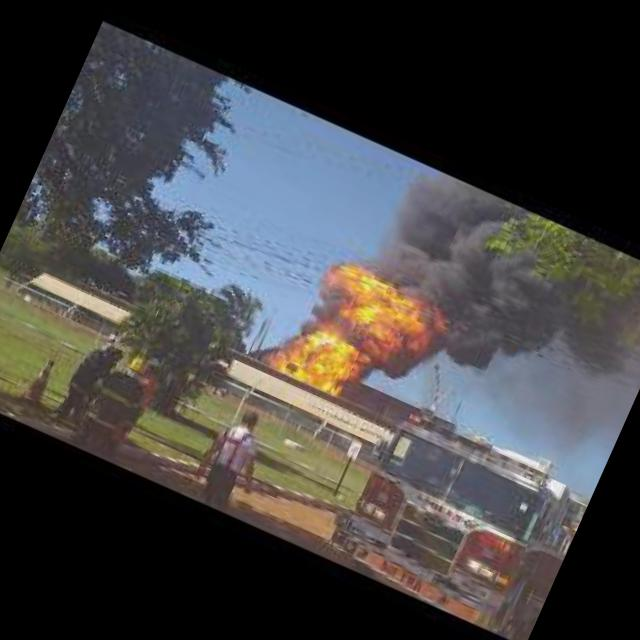fire: (266, 234, 462, 425)
smoke: (364, 158, 640, 391)
